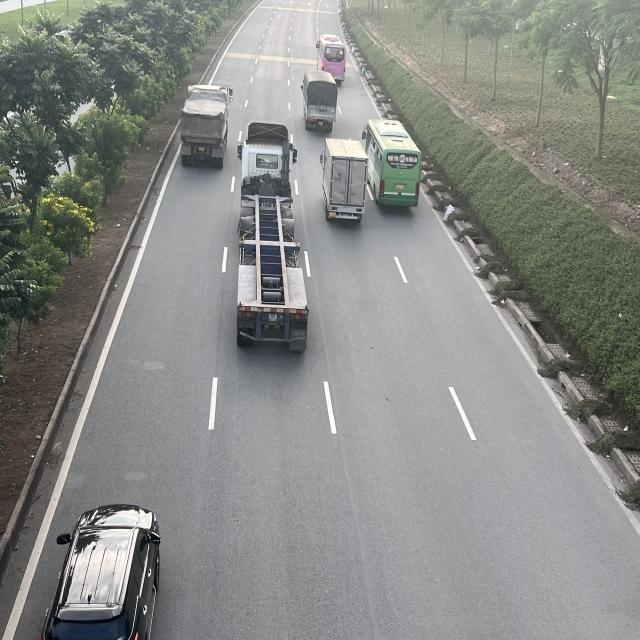car: (41, 496, 161, 639)
coach: (362, 118, 423, 212), (318, 32, 347, 81)
container: (237, 123, 310, 354), (180, 86, 233, 172)
truck: (321, 137, 370, 223), (300, 70, 338, 136)
